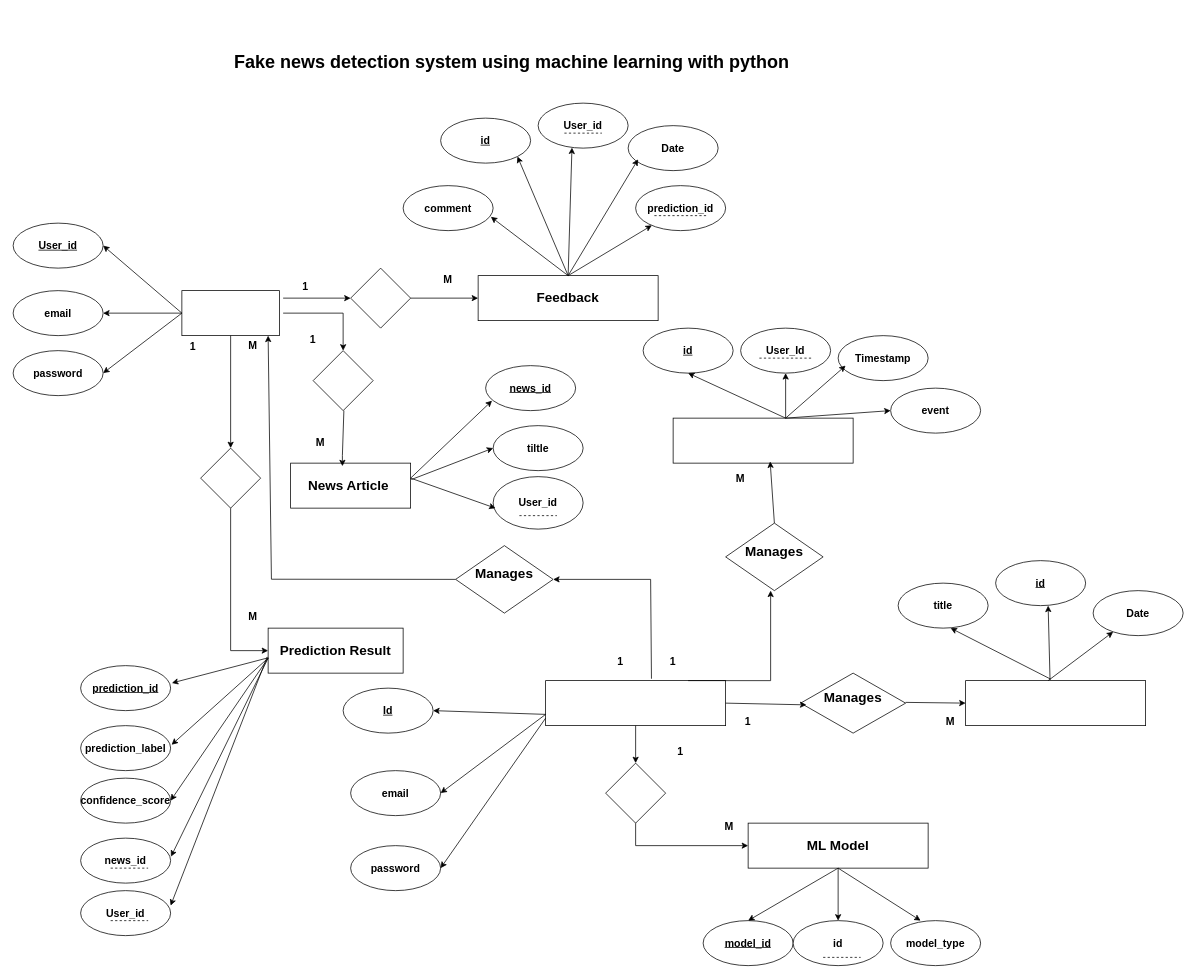
This 1196x979 diagram has some shape labels left out. The box of each missing label's shape, as (x1, y1, x2, y2) in pixels:
Admin: (545, 680, 726, 726)
Dataset: (965, 680, 1146, 726)
gave: (350, 267, 411, 328)
Input: (312, 350, 373, 411)
restrain: (605, 762, 666, 823)
System Logs: (672, 417, 853, 463)
User: (181, 290, 279, 336)
View: (200, 447, 261, 508)
